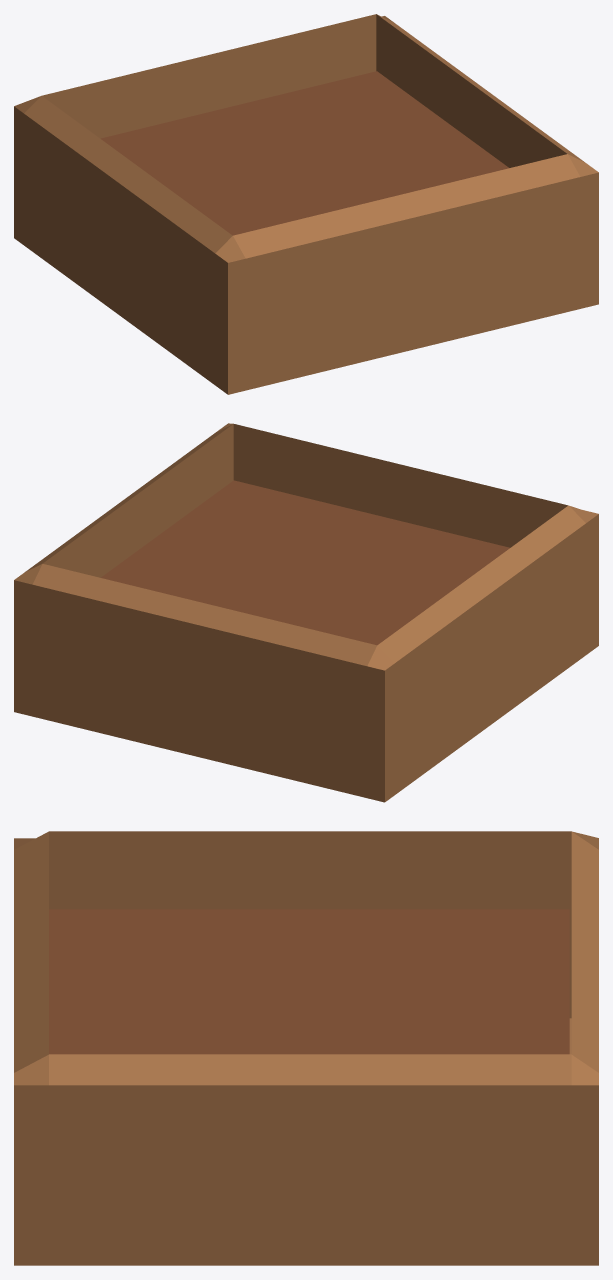
The model's file is PlantBox.fbx.
The picture shows the model from 3 angles, top to bottom: view 1: azimuth 30°, elevation 25°; view 2: azimuth 150°, elevation 25°; view 3: azimuth 270°, elevation 25°; orthographic projection. The views are drawn at different scales.
Visible parts, largest first — view 1: box, soil; view 2: box, soil; view 3: box, soil.
Boxes of the visible parts, box(x1,y1,x2,y2) form: box: box(14, 14, 598, 394); soil: box(101, 71, 509, 235); box: box(14, 423, 598, 802); soil: box(101, 480, 509, 645); box: box(14, 831, 598, 1265); soil: box(49, 909, 569, 1054).
Bounding box in the file's own units: 144 × 54 × 144.
